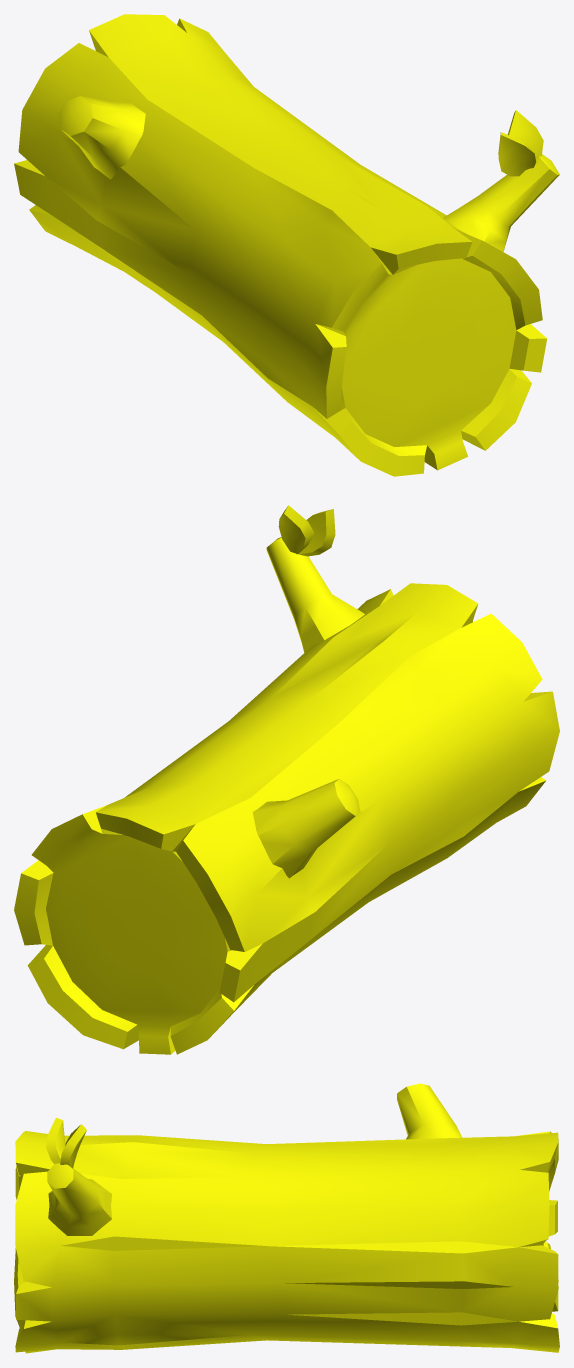
Rendered from kaykit-wood-log-a.glb.
The picture shows the model from 3 angles, top to bottom: view 1: azimuth 30°, elevation 25°; view 2: azimuth 150°, elevation 25°; view 3: azimuth 270°, elevation 25°; orthographic projection. The views are drawn at different scales.
Parts seen in each view (by area): view 1: Wood_Log_A; view 2: Wood_Log_A; view 3: Wood_Log_A.
Part boxes in pixels (bbox=[...]): Wood_Log_A: bbox=[14, 14, 559, 476]; Wood_Log_A: bbox=[14, 505, 559, 1054]; Wood_Log_A: bbox=[14, 1083, 559, 1353].
Bounding box in the file's own units: 0.7214 × 0.7334 × 1.35.
